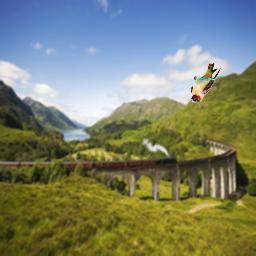Swallow: (189, 63, 221, 103)
